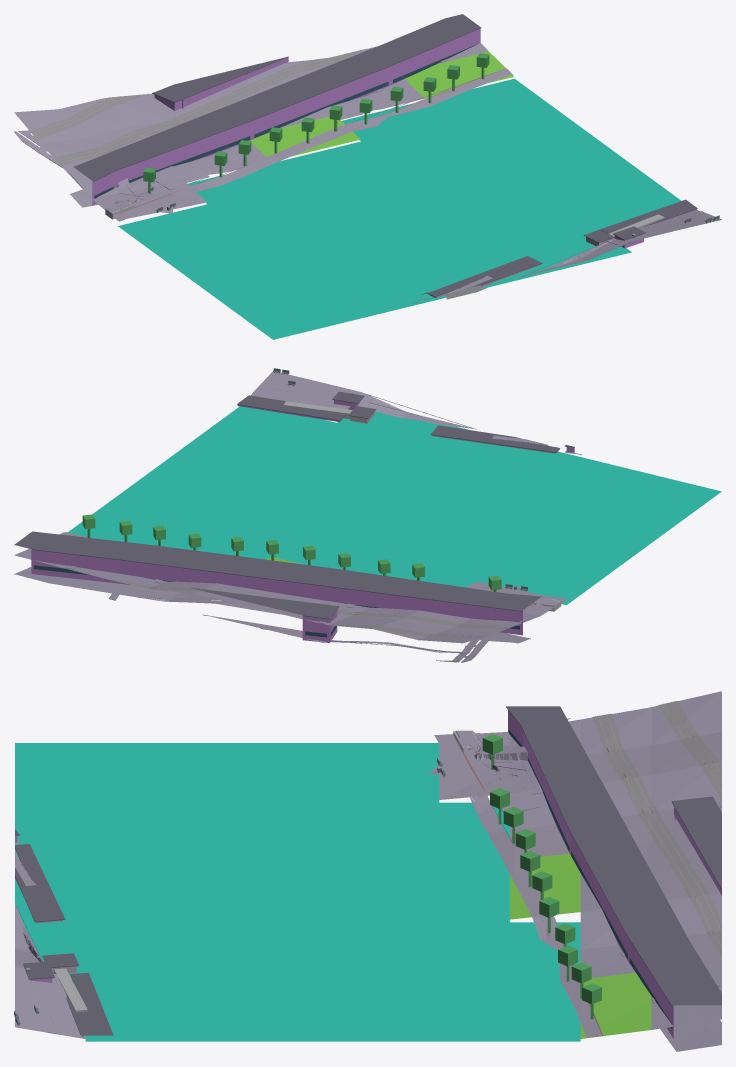
3 views of the same model, one above another, from view 1: azimuth 30°, elevation 25°; view 2: azimuth 150°, elevation 25°; view 3: azimuth 270°, elevation 25° (orthographic). The views are drawn at different scales.
Visible parts, largest first — view 1: compiled-chunk; view 2: compiled-chunk; view 3: compiled-chunk.
Part boxes in pixels (left/top/right/bottom): compiled-chunk: left=14, top=14, right=721, bottom=339; compiled-chunk: left=14, top=368, right=721, bottom=662; compiled-chunk: left=14, top=691, right=721, bottom=1051.
Bounding box in the file's own units: 120 × 13.19 × 120.
